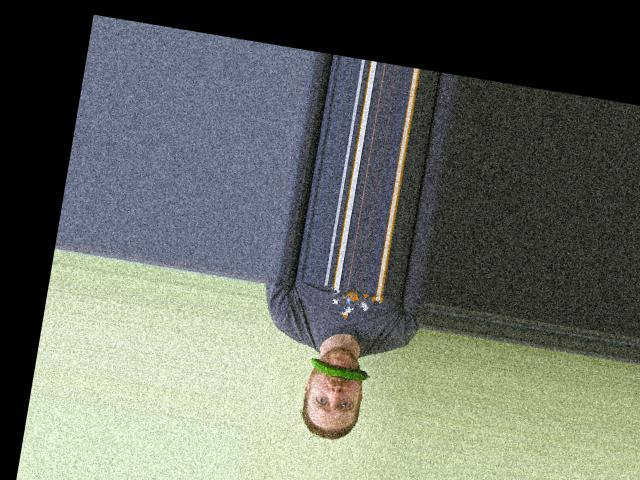cucumber: (308, 357, 371, 382)
